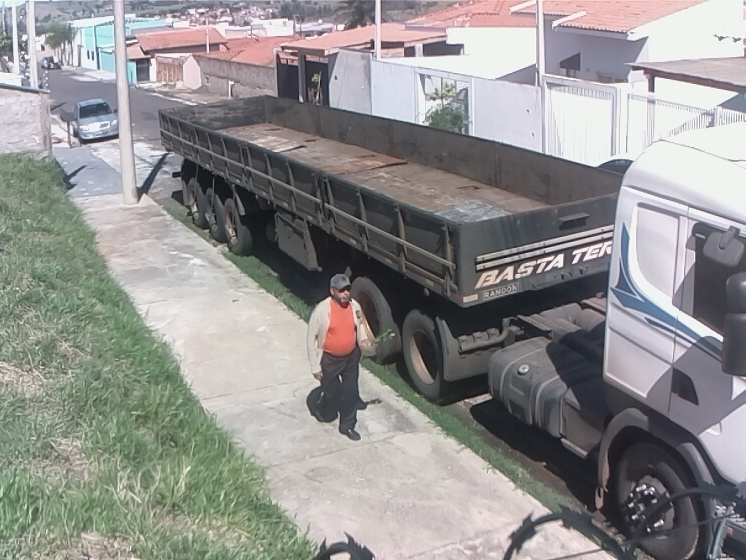person: (306, 272, 395, 443)
